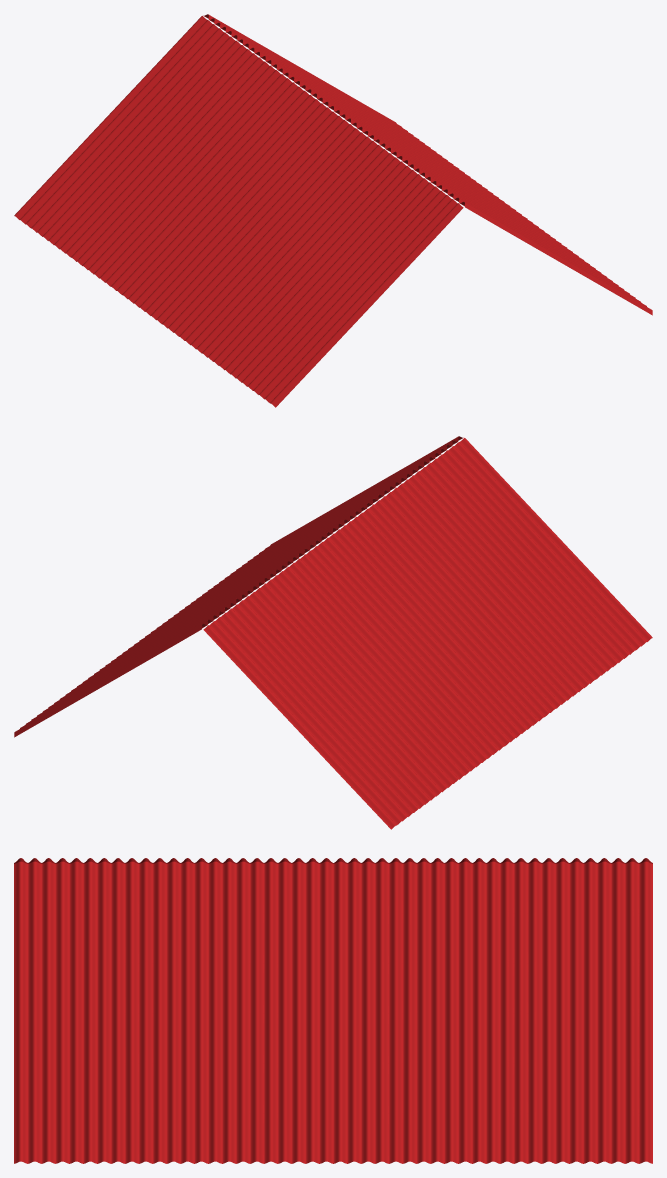
Rendered from dalgali2.glb.
3 views of the same model, one above another, from view 1: azimuth 30°, elevation 25°; view 2: azimuth 150°, elevation 25°; view 3: azimuth 270°, elevation 25° (orthographic). The views are drawn at different scales.
Visible parts, largest first — view 1: DALGALI; view 2: DALGALI; view 3: DALGALI.
Boxes of the visible parts, box(x1,y1,x2,y2) form: DALGALI: box(14, 14, 652, 407); DALGALI: box(14, 436, 652, 829); DALGALI: box(14, 858, 652, 1163).
Bounding box in the file's own units: 16.21 × 6.38 × 19.25.
